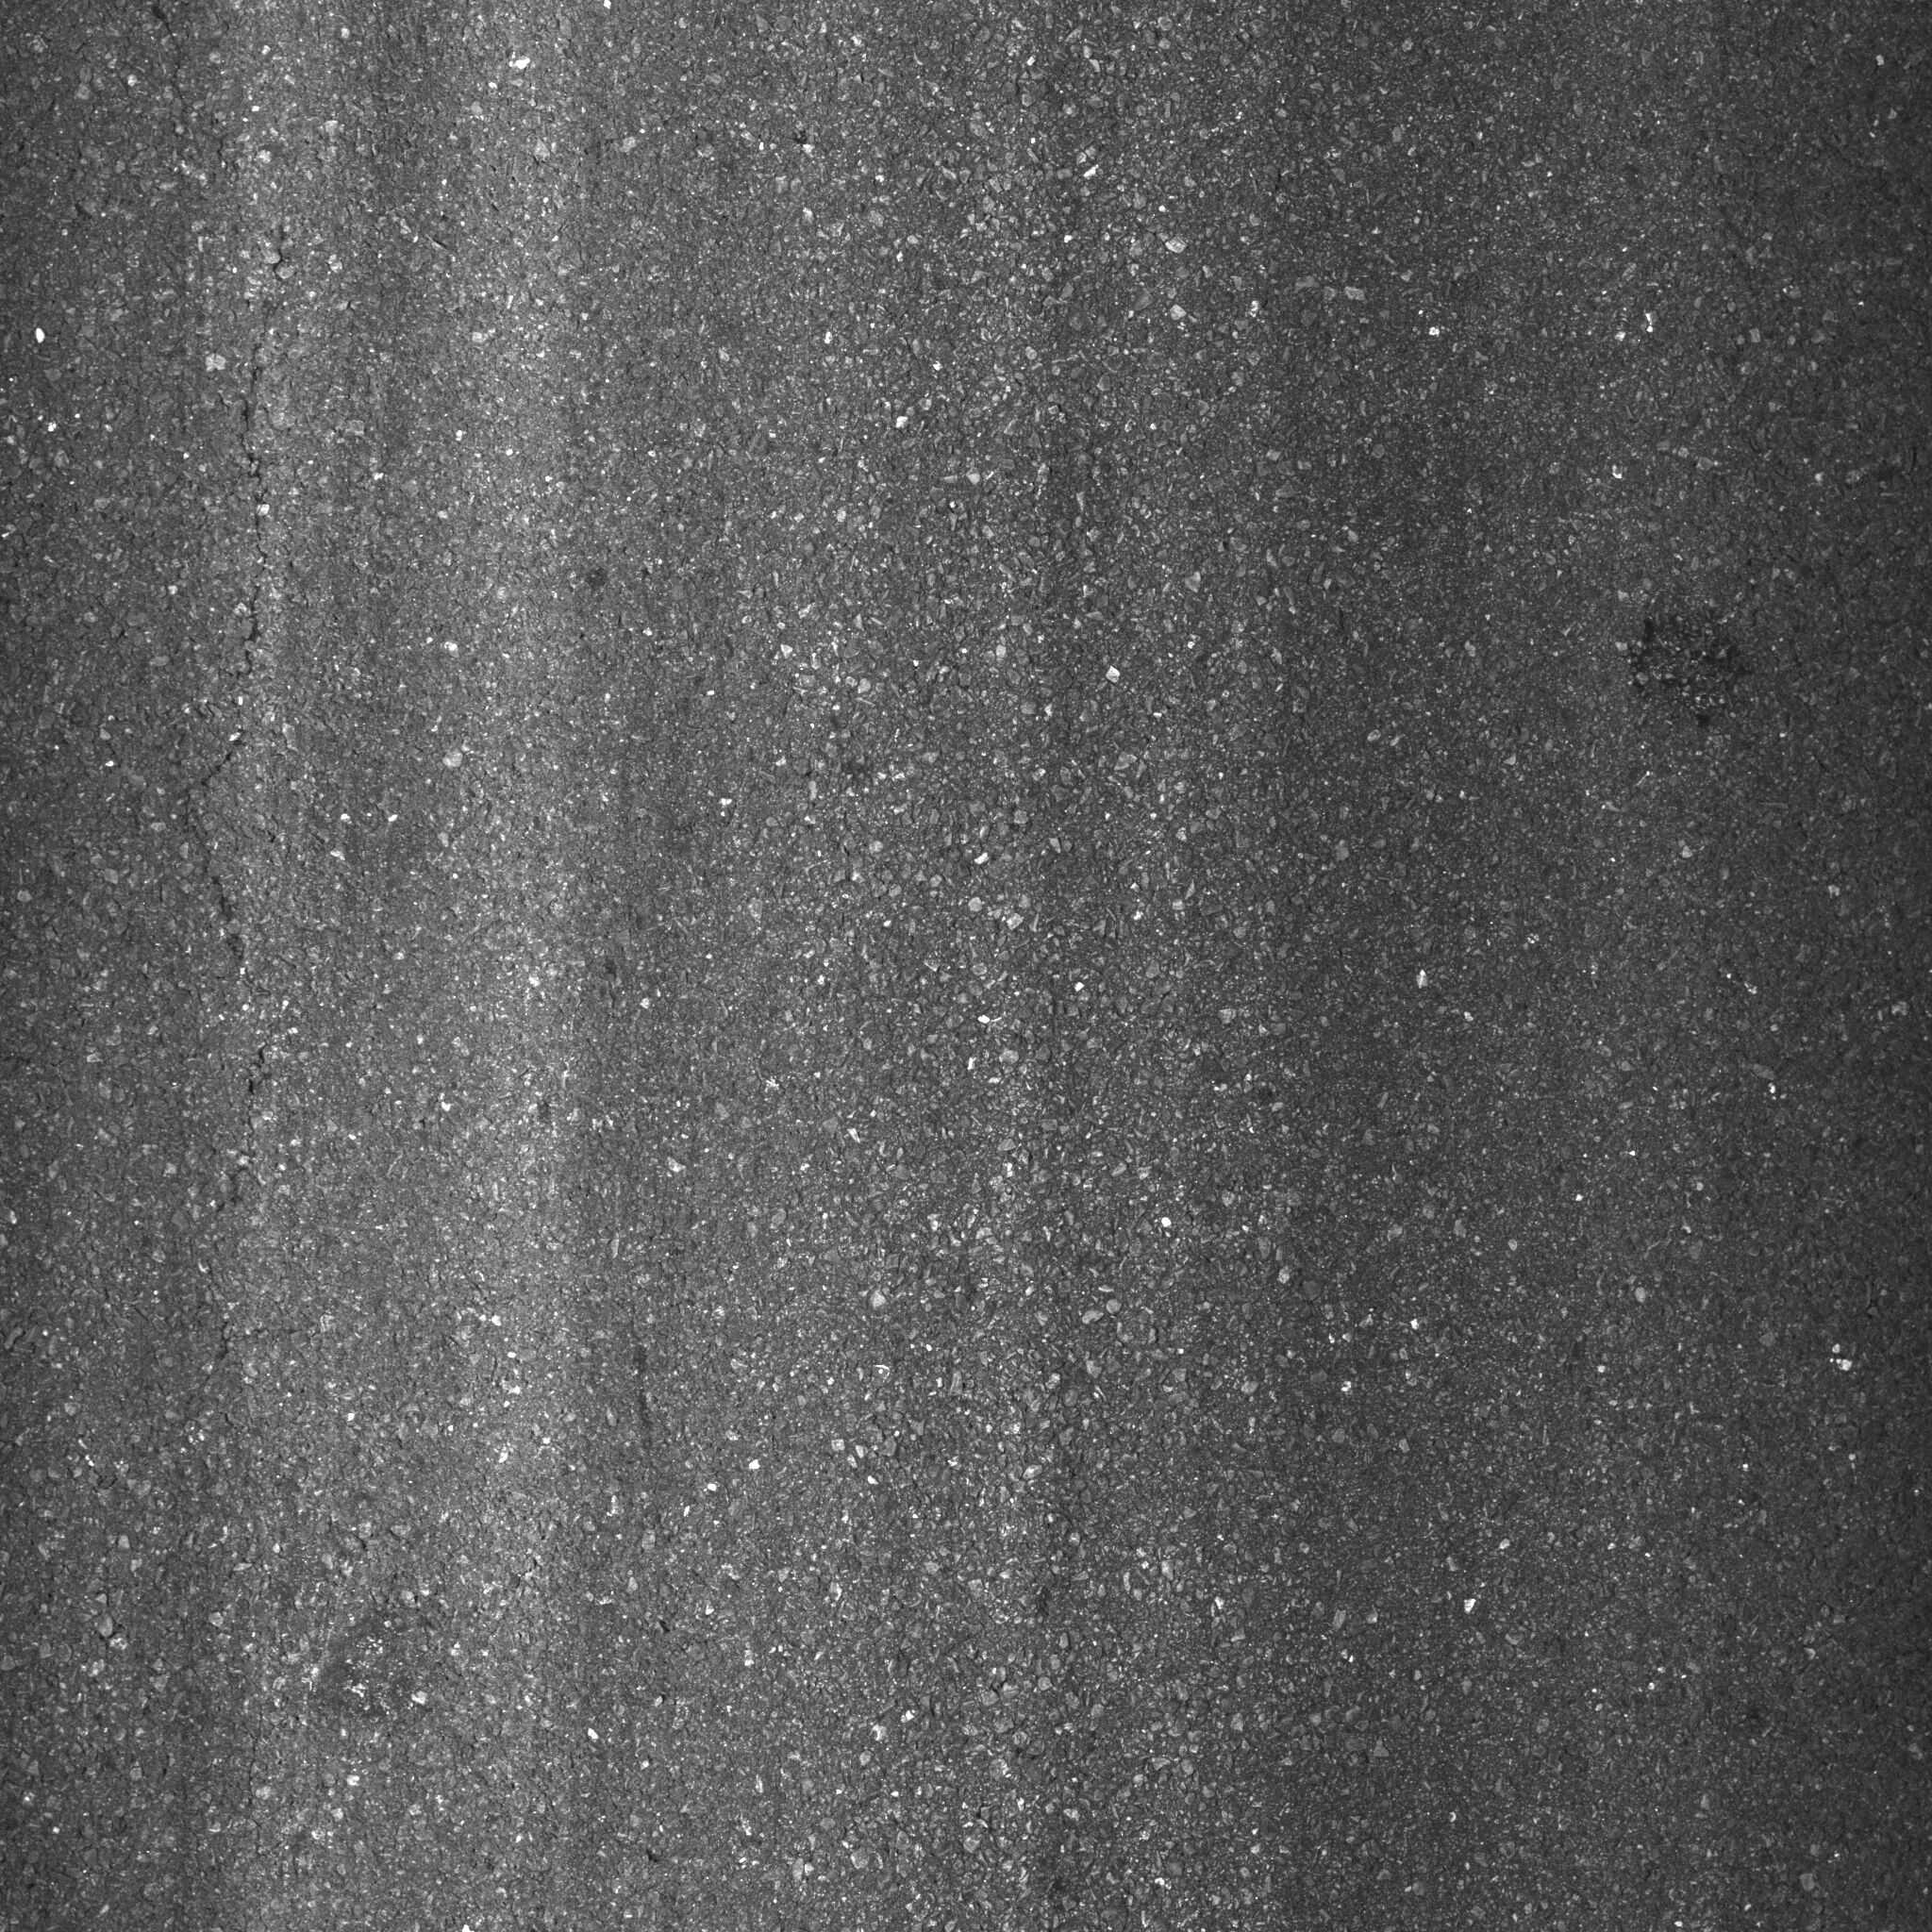longitudinal: (157, 157, 276, 1431)
